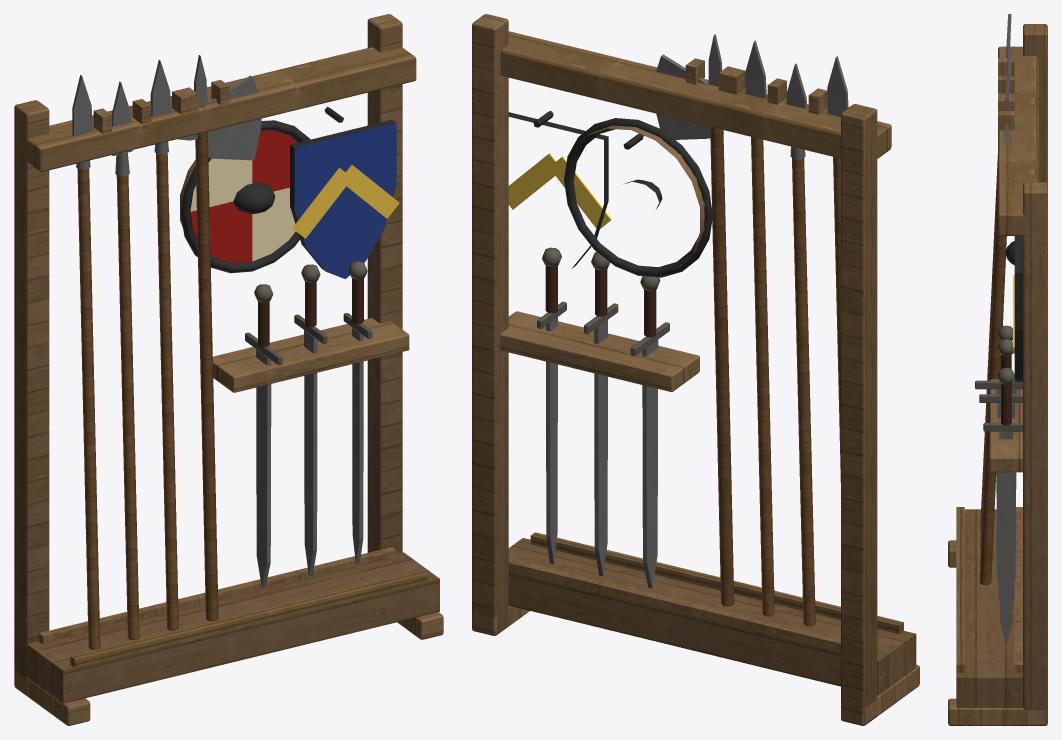
The model's file is prop_weaponRack.glb.
The picture shows the model from 3 angles, left to right: view 1: azimuth 30°, elevation 25°; view 2: azimuth 150°, elevation 25°; view 3: azimuth 270°, elevation 25°; orthographic projection. The views are drawn at different scales.
Visible parts, largest first — view 1: prop; view 2: prop; view 3: prop.
Boxes of the visible parts, box(x1,y1,x2,y2) form: prop: box(14, 14, 443, 725); prop: box(472, 14, 919, 725); prop: box(948, 14, 1047, 725).
Size of what is drawn, in the model's own units: 0.96 by 1.5 by 0.24.
5 materials, 4 textured.
